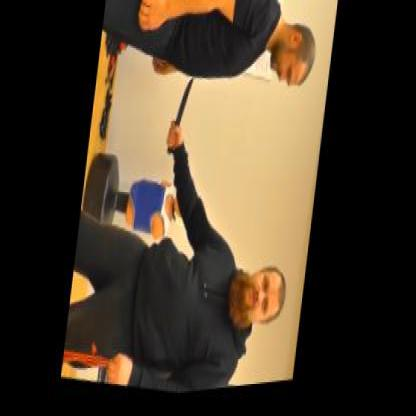knife: (166, 75, 196, 162)
